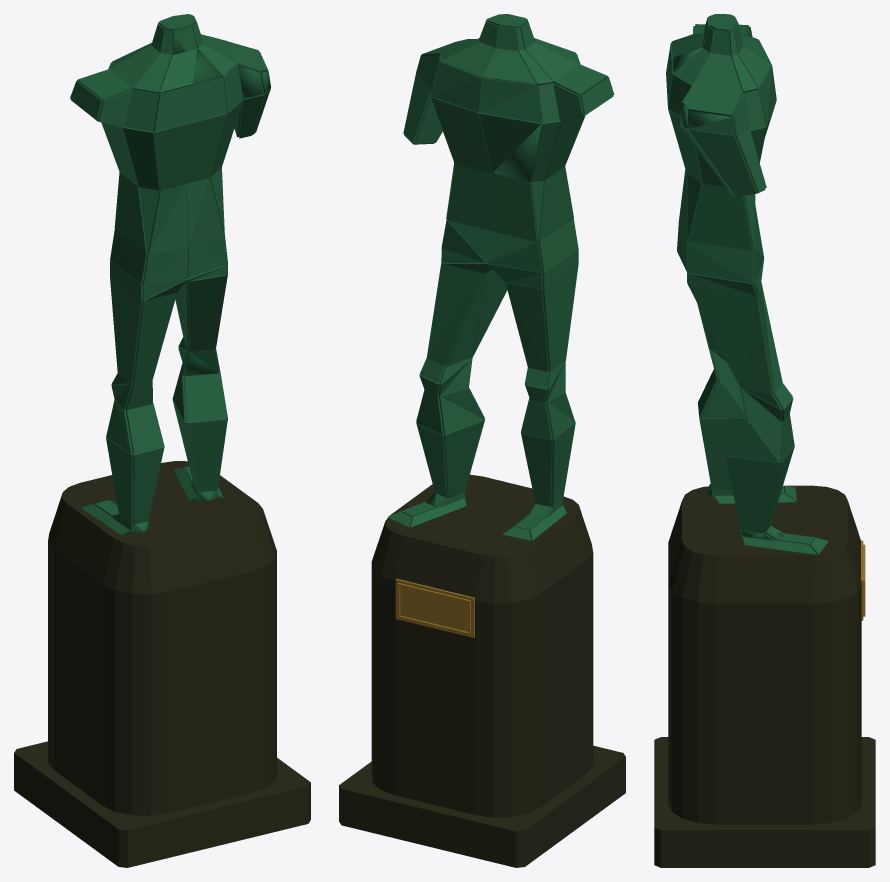
Rendered from monumento-estatua.fbx.
3 views of the same model, side by side, from view 1: azimuth 30°, elevation 25°; view 2: azimuth 150°, elevation 25°; view 3: azimuth 270°, elevation 25° (orthographic). The views are drawn at different scales.
Parts seen in each view (by area): view 1: Cube.001; view 2: Cube.001; view 3: Cube.001.
Part boxes in pixels (x1,y1,x2,y2): Cube.001: (14,14,310,867); Cube.001: (339,14,625,867); Cube.001: (654,14,875,867).
Bounding box in the file's own units: 41.02 × 159 × 40.
